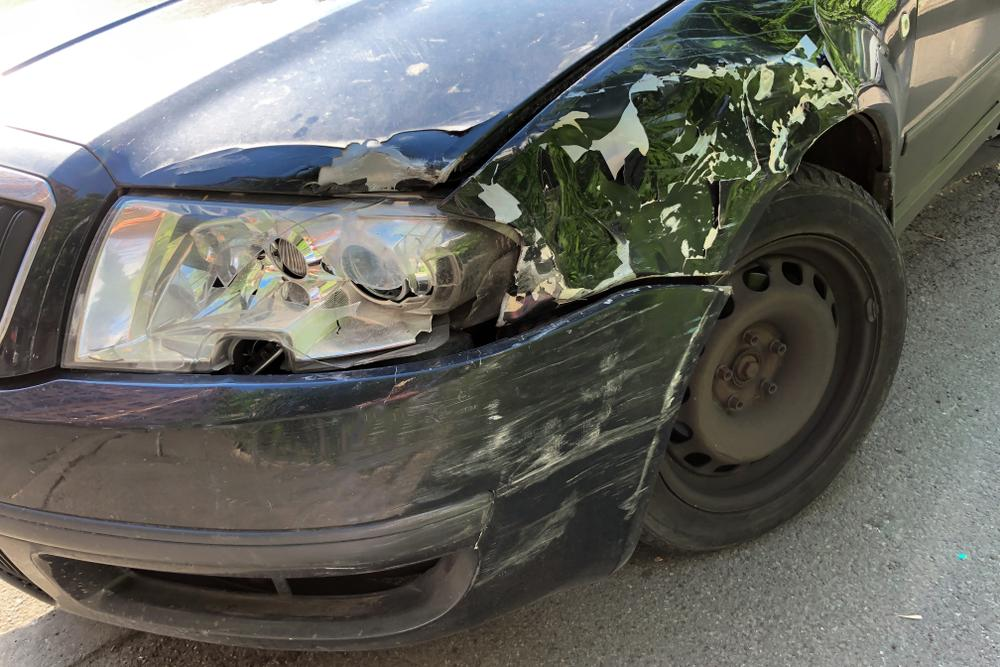dent: (463, 65, 855, 295)
lamp broken: (58, 194, 521, 373)
scratch: (370, 295, 724, 586)
